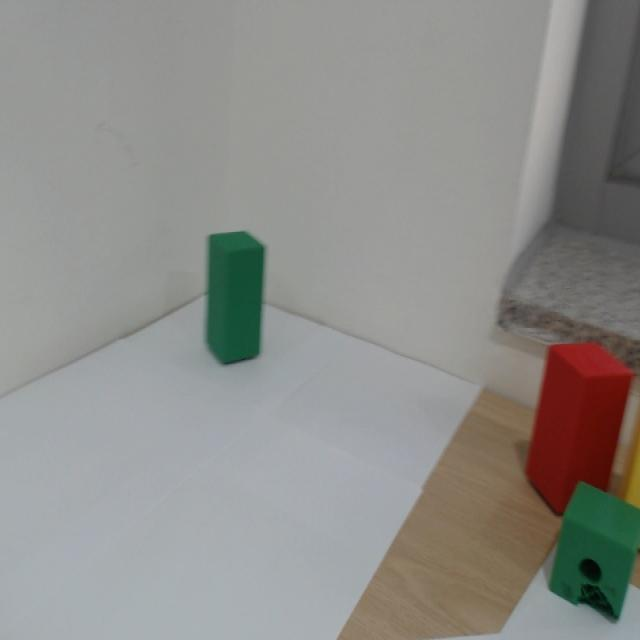cube: (167, 189, 288, 399)
